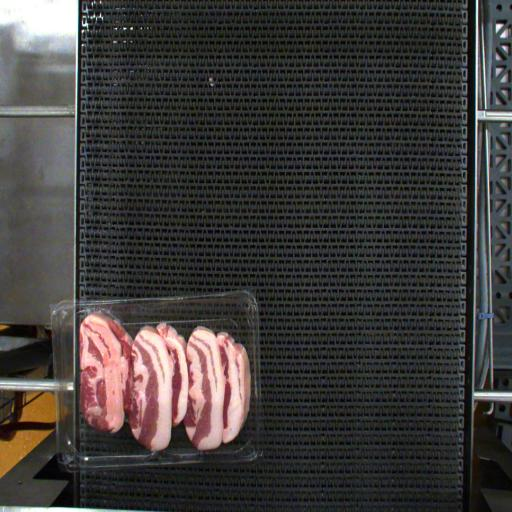packaging-error: (71, 294, 123, 330)
